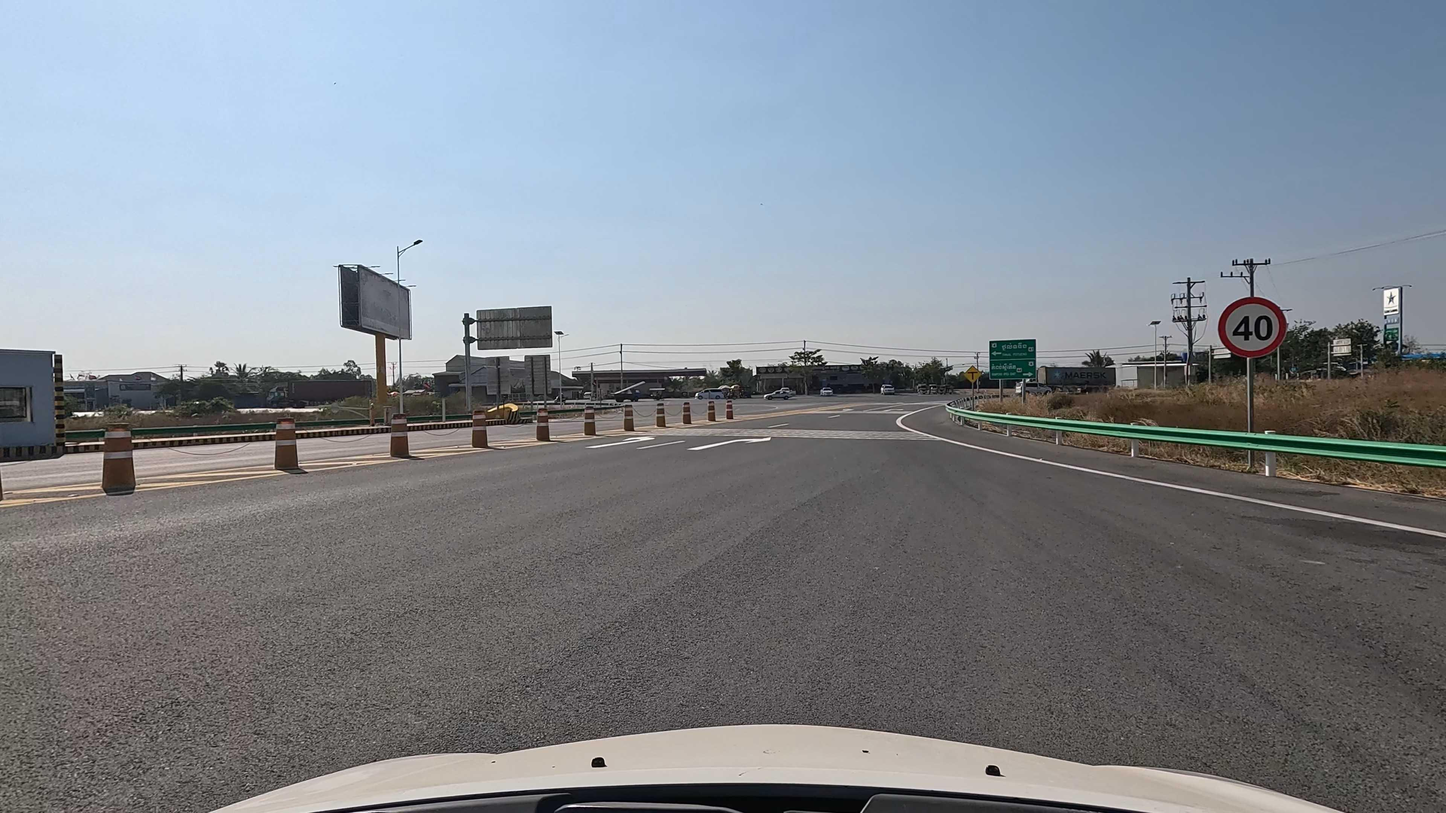speed_limit_40: (1217, 296, 1288, 358)
